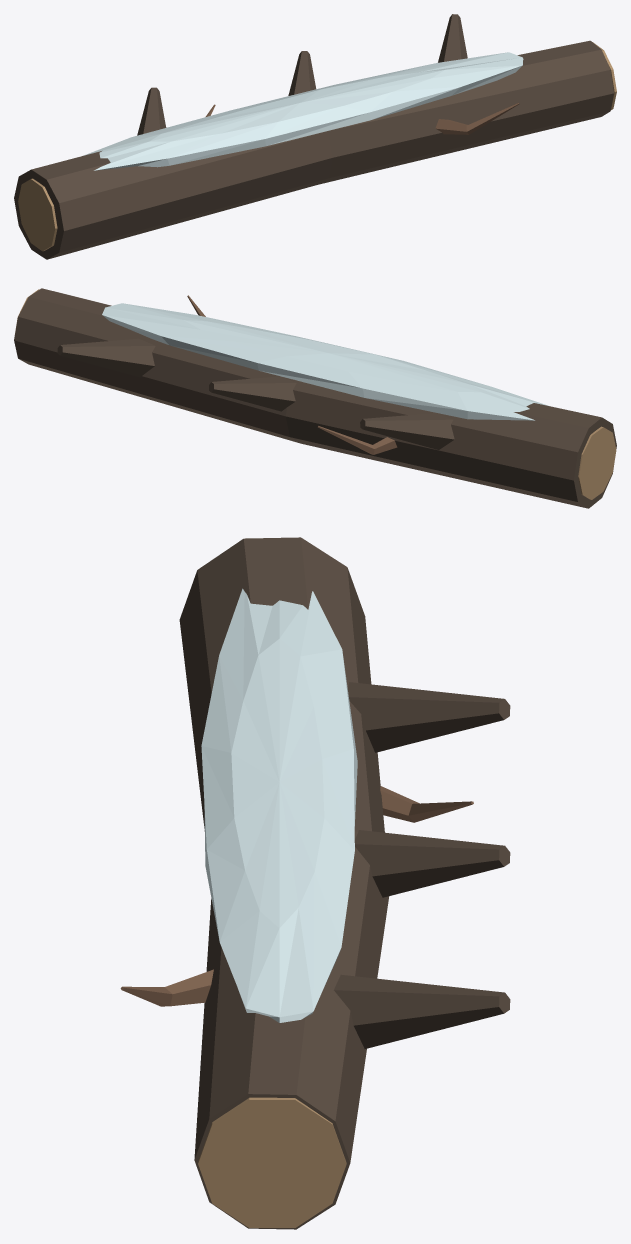
The model's file is LOG_03_FallenLogFrosted.glb.
The picture shows the model from 3 angles, top to bottom: view 1: azimuth 30°, elevation 25°; view 2: azimuth 150°, elevation 25°; view 3: azimuth 270°, elevation 25°; orthographic projection. The views are drawn at different scales.
Parts seen in each view (by area): view 1: LOG_03_FallenLogFrosted; view 2: LOG_03_FallenLogFrosted; view 3: LOG_03_FallenLogFrosted.
Boxes of the visible parts, x1,y1,x2,y2 form: LOG_03_FallenLogFrosted: [14, 14, 616, 259]; LOG_03_FallenLogFrosted: [14, 288, 616, 508]; LOG_03_FallenLogFrosted: [120, 537, 510, 1229].
Bounding box in the file's own units: 3.63 × 0.5333 × 1.09.
